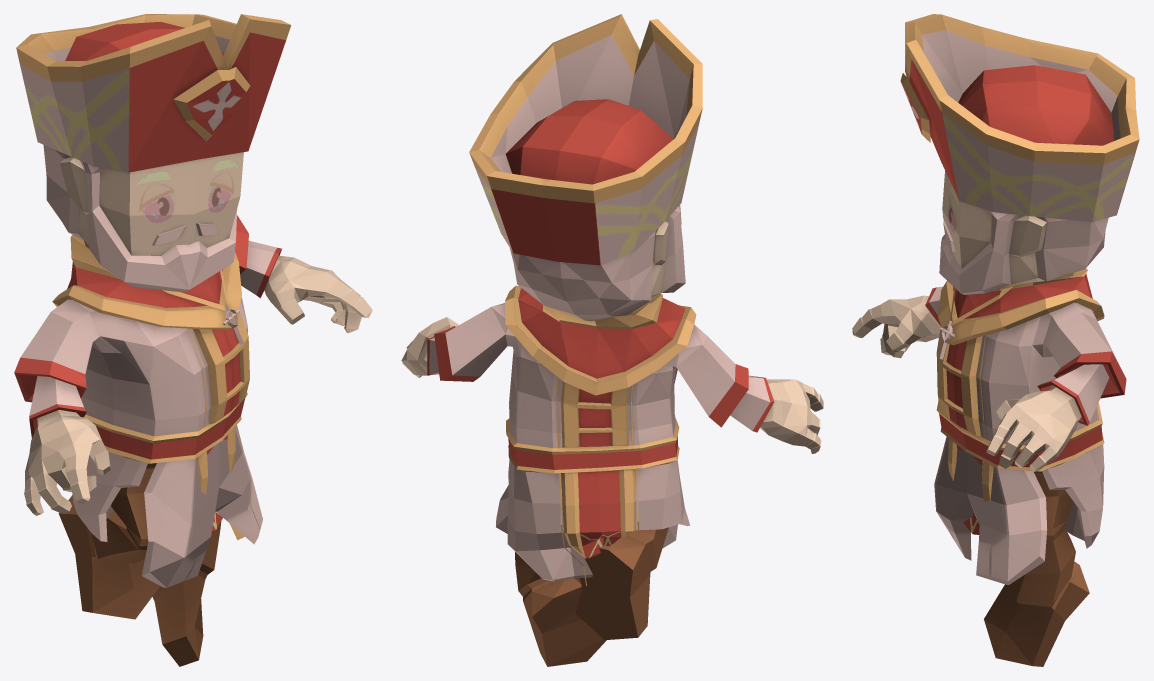
Rendered from SK_Lowpoly_16.gltf.
3 renders of one model, left to right at view 1: azimuth 30°, elevation 25°; view 2: azimuth 150°, elevation 25°; view 3: azimuth 270°, elevation 25°, orthographic. The views are drawn at different scales.
Visible parts, largest first — view 1: SK_Lowpoly_Male_016_Pose_17_StaticMeshComponent0; view 2: SK_Lowpoly_Male_016_Pose_17_StaticMeshComponent0; view 3: SK_Lowpoly_Male_016_Pose_17_StaticMeshComponent0.
Boxes of the visible parts, bbox=[...] form: SK_Lowpoly_Male_016_Pose_17_StaticMeshComponent0: bbox=[14, 14, 372, 666]; SK_Lowpoly_Male_016_Pose_17_StaticMeshComponent0: bbox=[401, 14, 823, 666]; SK_Lowpoly_Male_016_Pose_17_StaticMeshComponent0: bbox=[852, 14, 1139, 666].
Bounding box in the file's own units: 1.09 × 1.81 × 0.7508.
Materials: 1 (1 with a texture image).
